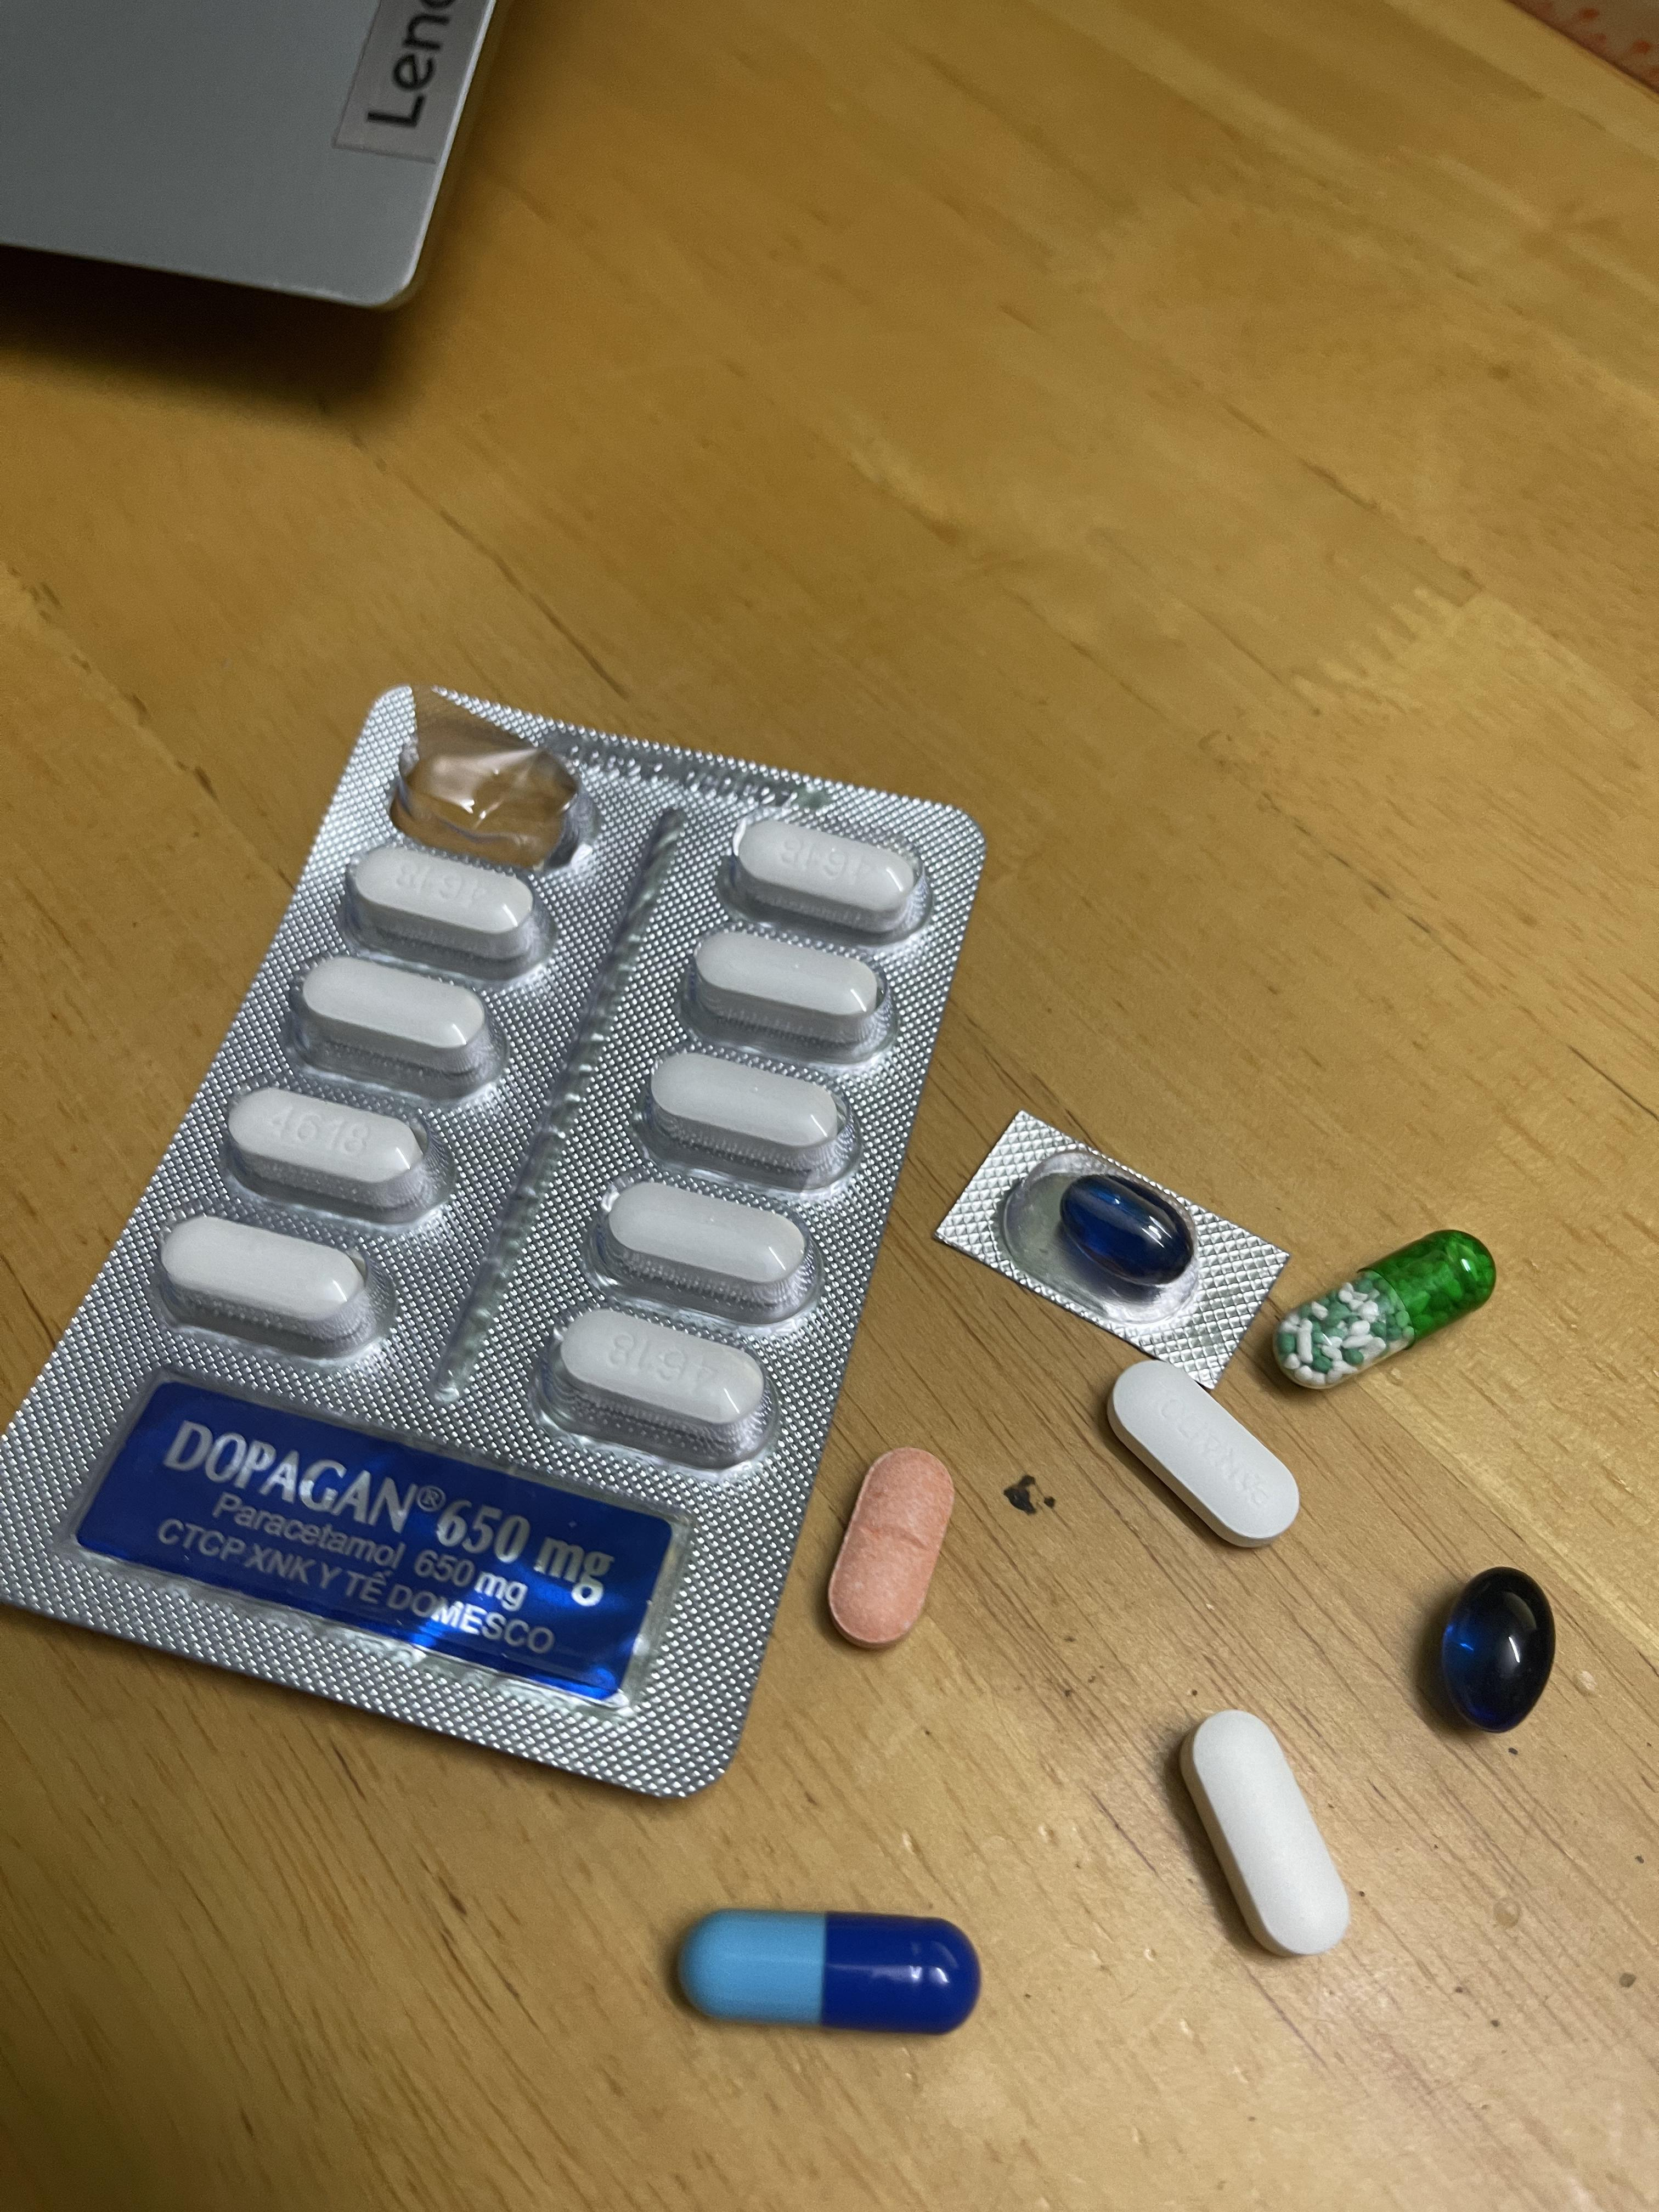Lincomyxin_500mg: (1441, 1569, 1554, 1731), (1056, 1174, 1192, 1287)
Loratadine_10mg: (824, 1449, 957, 1644)
Paracetamol_350mg: (1108, 1357, 1297, 1541)
Paracetamol_500mg: (1185, 1714, 1344, 1954), (545, 1305, 763, 1447), (160, 1216, 378, 1348), (230, 1085, 436, 1214), (598, 1179, 807, 1296), (647, 1050, 849, 1169), (349, 841, 545, 961), (298, 953, 490, 1073), (690, 923, 885, 1036), (737, 815, 918, 923)
Paracetamol_650mg: (1279, 1231, 1492, 1385)
pill: (681, 1914, 972, 2029)
